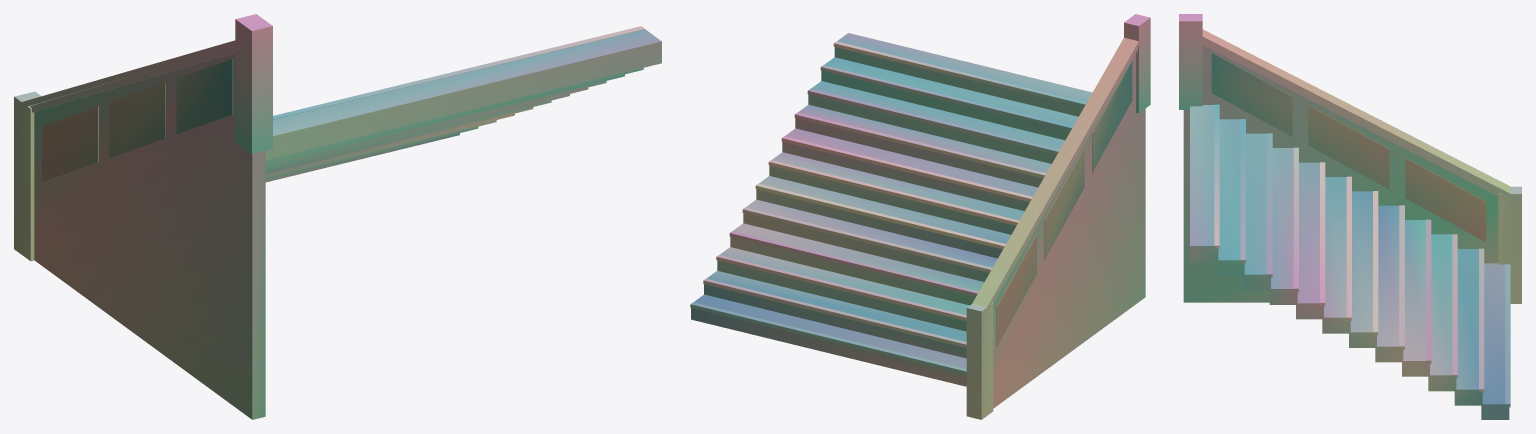
The model's file is stair_grand_4m_l.glb.
The picture shows the model from 3 angles, left to right: view 1: azimuth 30°, elevation 25°; view 2: azimuth 150°, elevation 25°; view 3: azimuth 270°, elevation 25°; orthographic projection. The views are drawn at different scales.
Parts seen in each view (by area): view 1: stair, stair_trim, stair_panels; view 2: stair, stair_trim, stair_panels; view 3: stair, stair_trim, stair_panels.
Part boxes in pixels (<box>): stair: <box>34,29,661,419</box>; stair_trim: <box>14,14,644,261</box>; stair_panels: <box>42,58,233,182</box>; stair: <box>691,33,1145,408</box>; stair_trim: <box>690,14,1150,419</box>; stair_panels: <box>996,61,1132,346</box>; stair: <box>1183,45,1509,419</box>; stair_trim: <box>1179,14,1521,407</box>; stair_panels: <box>1211,53,1486,241</box>.
Bounding box in the file's own units: 4.38 × 3.93 × 4.32.
